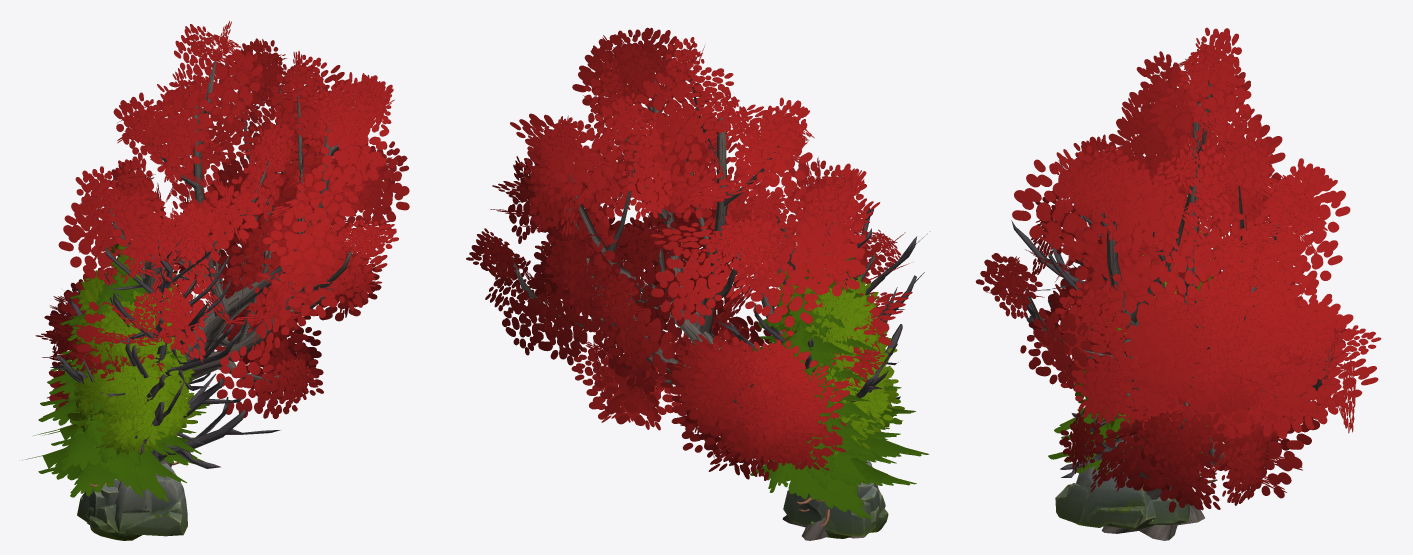
The model's file is nature.gltf.
The picture shows the model from 3 angles, left to right: view 1: azimuth 30°, elevation 25°; view 2: azimuth 150°, elevation 25°; view 3: azimuth 270°, elevation 25°; orthographic projection. The views are drawn at different scales.
Visible parts, largest first — view 1: TwistedTree_1, CommonTree_3, DeadTree_2, Pine_4, CommonTree_1, Pine_2, Rock_Medium_3, Pine_5, CommonTree_2, DeadTree_1, Rock_Medium_1, CommonTree_4 (+2 smaller); view 2: TwistedTree_1, Pine_5, Pine_4, CommonTree_3, Rock_Medium_2, CommonTree_4, CommonTree_1, DeadTree_2, Pine_2, DeadTree_1, CommonTree_2; view 3: TwistedTree_1, Rock_Medium_3, DeadTree_2, Rock_Medium_2.
Boxes of the visible parts, x1=… form: TwistedTree_1: x1=35, y1=21, x2=409, y2=524; CommonTree_3: x1=75, y1=267, x2=194, y2=431; DeadTree_2: x1=75, y1=237, x2=280, y2=468; Pine_4: x1=33, y1=243, x2=209, y2=486; CommonTree_1: x1=67, y1=346, x2=199, y2=454; Pine_2: x1=38, y1=375, x2=196, y2=497; Rock_Medium_3: x1=89, y1=462, x2=187, y2=540; Pine_5: x1=22, y1=311, x2=206, y2=502; CommonTree_2: x1=73, y1=337, x2=194, y2=450; DeadTree_1: x1=50, y1=260, x2=242, y2=444; Rock_Medium_1: x1=85, y1=480, x2=151, y2=533; CommonTree_4: x1=84, y1=268, x2=179, y2=352; TwistedTree_1: x1=466, y1=27, x2=912, y2=540; Pine_5: x1=752, y1=286, x2=902, y2=518; Pine_4: x1=760, y1=245, x2=929, y2=526; CommonTree_3: x1=786, y1=262, x2=897, y2=432; Rock_Medium_2: x1=783, y1=482, x2=875, y2=536; CommonTree_4: x1=776, y1=270, x2=876, y2=345; CommonTree_1: x1=784, y1=331, x2=904, y2=449; DeadTree_2: x1=716, y1=181, x2=930, y2=399; Pine_2: x1=750, y1=428, x2=916, y2=517; DeadTree_1: x1=721, y1=249, x2=897, y2=402; CommonTree_2: x1=781, y1=332, x2=900, y2=426; TwistedTree_1: x1=975, y1=27, x2=1381, y2=540; Rock_Medium_3: x1=1055, y1=459, x2=1150, y2=527; DeadTree_2: x1=1011, y1=155, x2=1223, y2=477; Rock_Medium_2: x1=1148, y1=477, x2=1189, y2=525.
Size of the model in its own units: 14.89 by 17.22 by 12.1.
12 materials, 12 textured.
